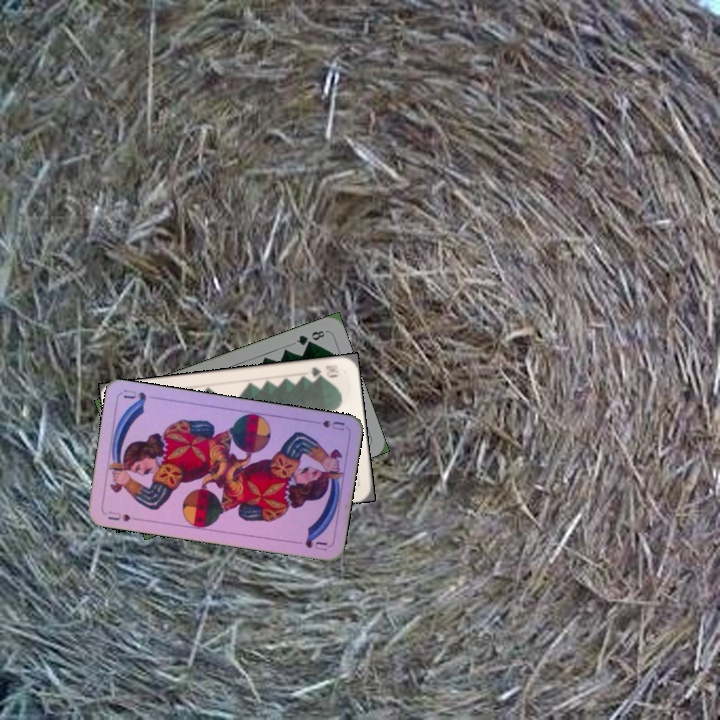G10: (307, 361, 341, 381)
G8: (292, 326, 327, 348)
SU: (306, 416, 347, 433), (104, 507, 142, 524)
